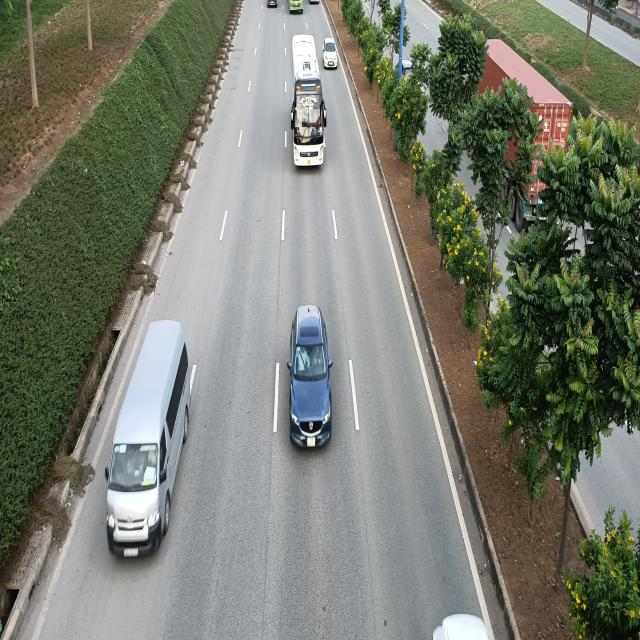car: (290, 304, 336, 447), (322, 37, 338, 70)
coach: (290, 34, 326, 167)
van: (106, 322, 192, 558)
